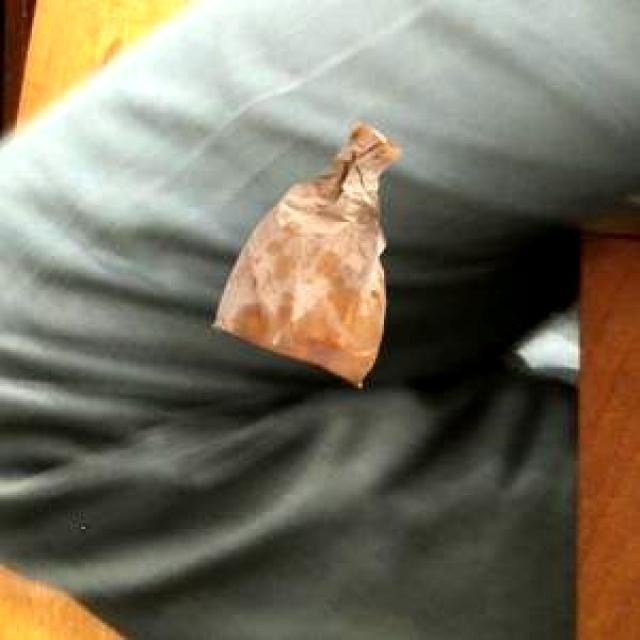Paper_Bag: (210, 118, 400, 383)
